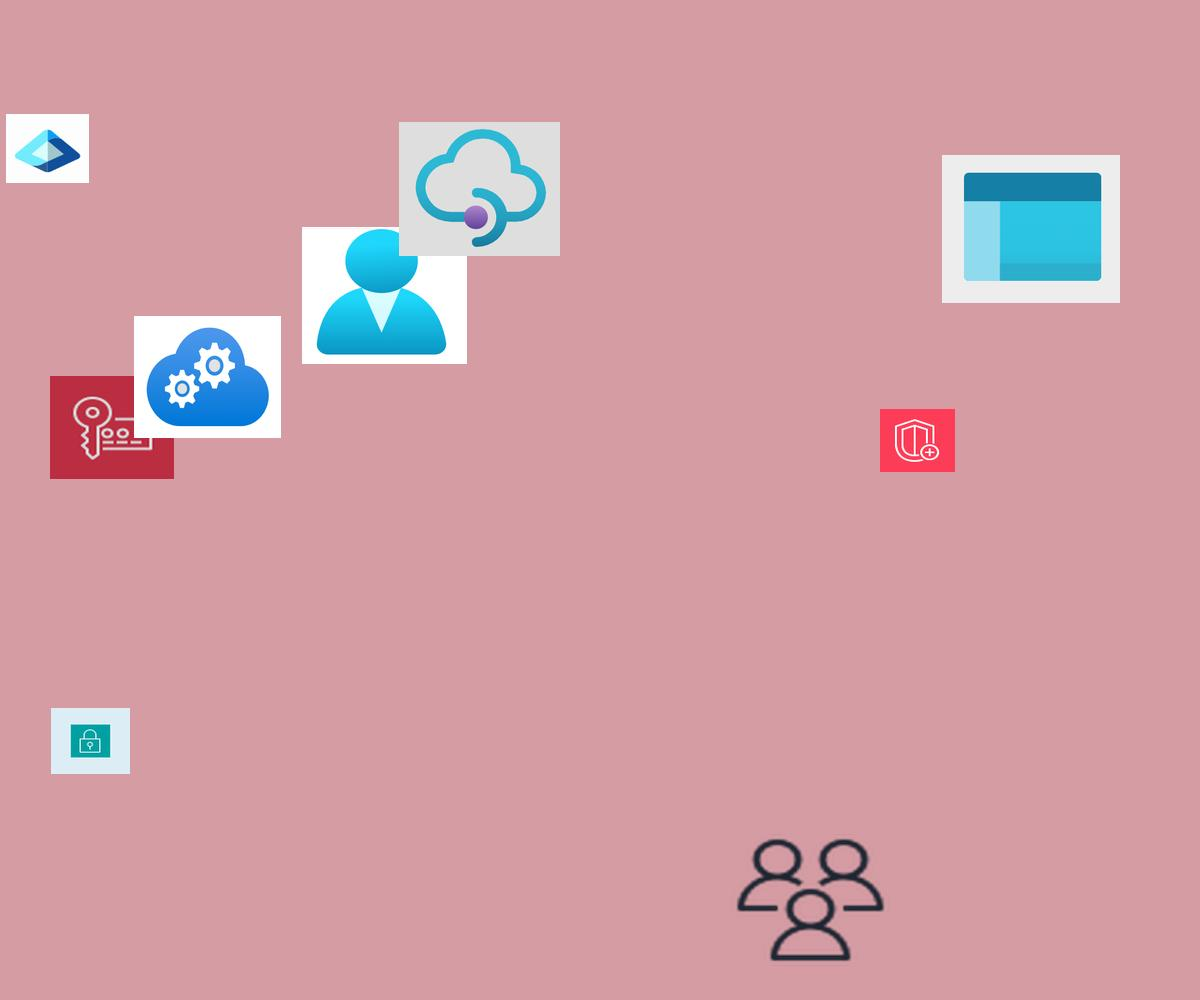AWS-Key-Management-Service: (50, 376, 174, 479)
AWS-Private-subnet: (51, 708, 130, 774)
AWS-Res_Users: (731, 834, 890, 966)
AWS-Shield: (880, 409, 955, 472)
Azure_api_gateway: (399, 122, 560, 256)
Azure_cloud_services: (134, 316, 281, 438)
Azure_management-portal: (942, 155, 1120, 303)
Azure_microsoft_entra: (6, 114, 89, 183)
Azure_users: (302, 227, 467, 364)
